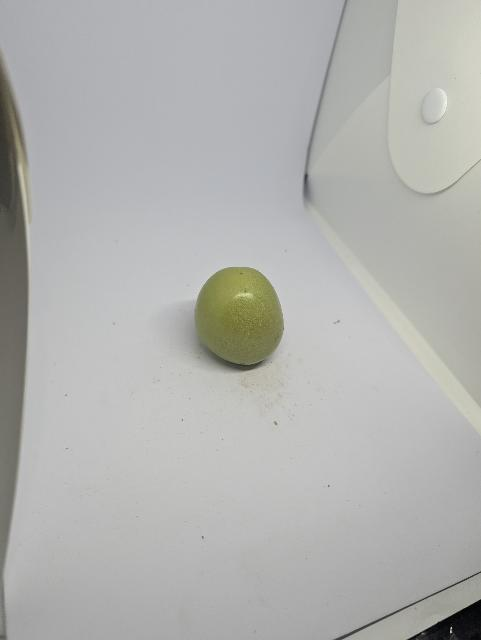green: (187, 235, 304, 395)
